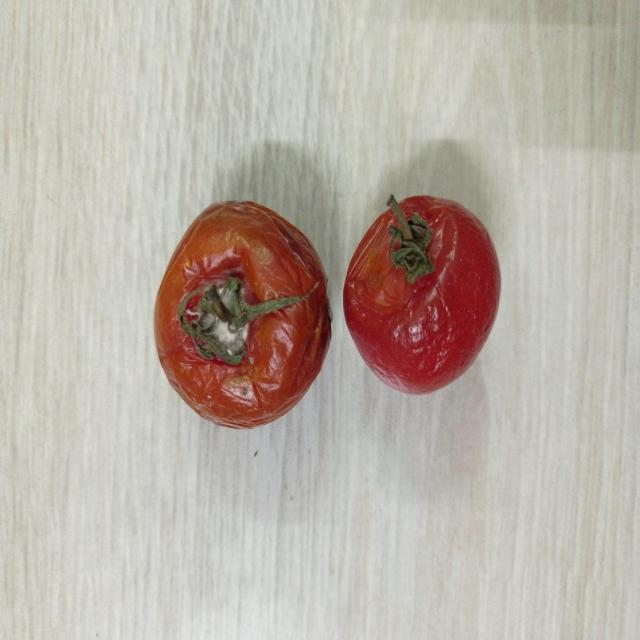Rotten: (154, 196, 334, 430), (344, 191, 503, 393)
